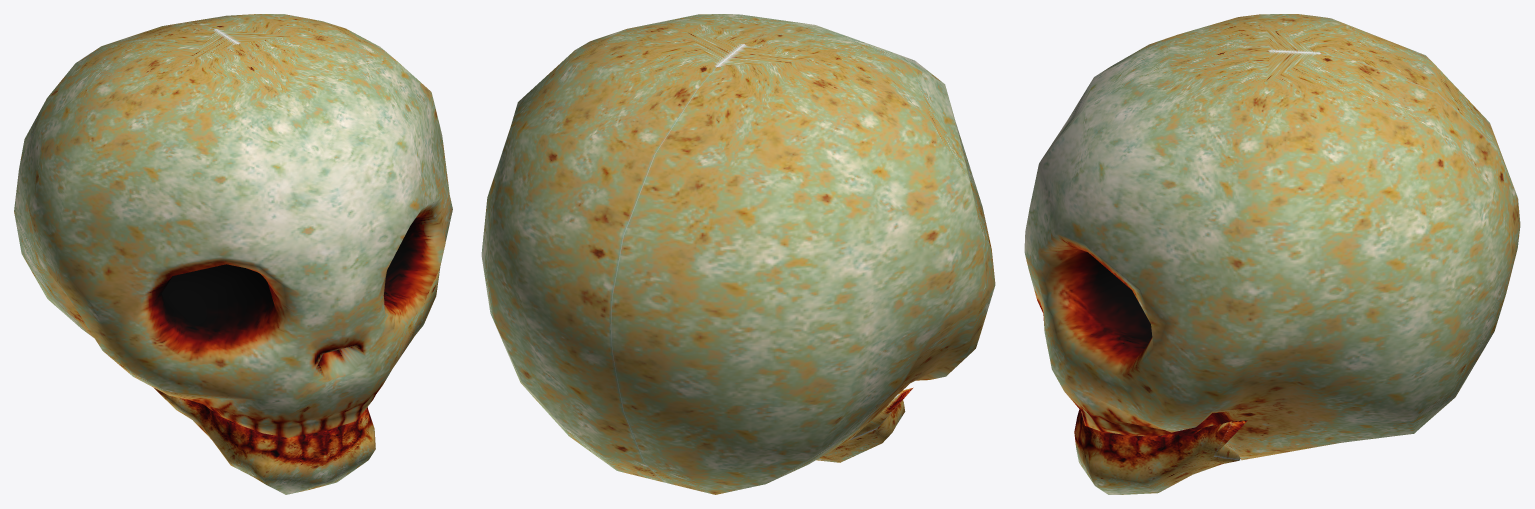
Rendered from skull.FBX.
3 renders of one model, left to right at view 1: azimuth 30°, elevation 25°; view 2: azimuth 150°, elevation 25°; view 3: azimuth 270°, elevation 25°, orthographic. The views are drawn at different scales.
Visible parts, largest first — view 1: skeletin; view 2: skeletin; view 3: skeletin.
Boxes of the visible parts, x1,y1,x2,y2 form: skeletin: (14, 14, 452, 494); skeletin: (481, 14, 995, 494); skeletin: (1024, 14, 1520, 494).
Bounding box in the file's own units: 22.77 × 22.37 × 23.23.
